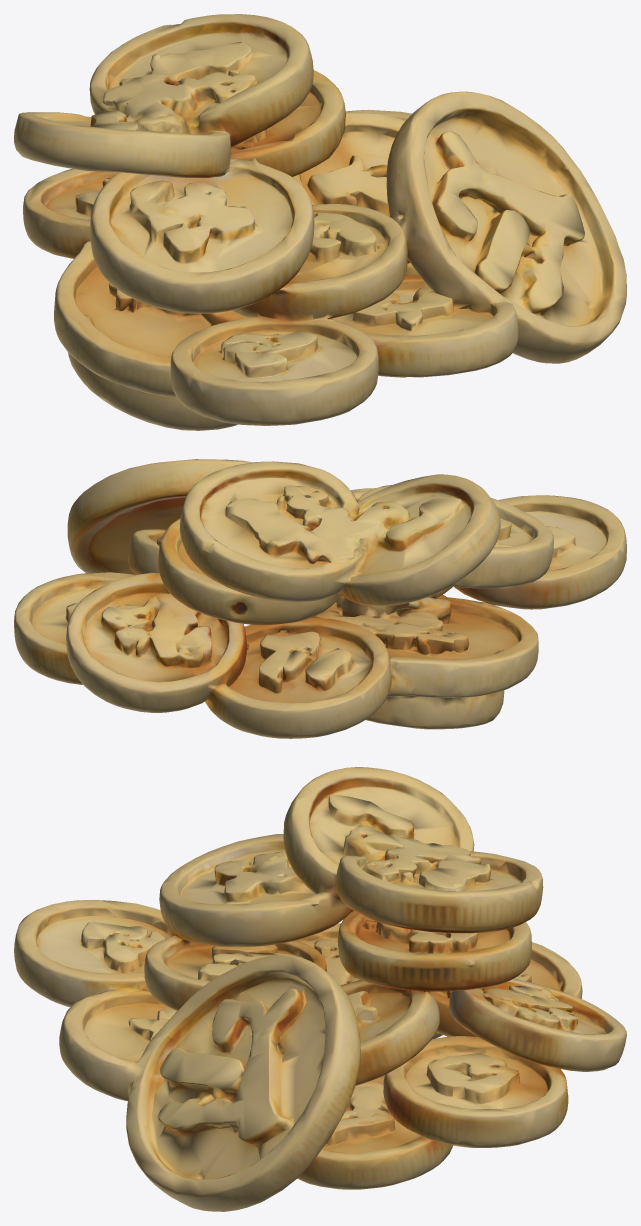
File: prop-coin-pile.glb
The picture shows the model from 3 angles, top to bottom: view 1: azimuth 30°, elevation 25°; view 2: azimuth 150°, elevation 25°; view 3: azimuth 270°, elevation 25°; orthographic projection. The views are drawn at different scales.
Visible parts, largest first — view 1: tripo_node_39419553-7584-4f32-bab2-c5bf6f872e3b; view 2: tripo_node_39419553-7584-4f32-bab2-c5bf6f872e3b; view 3: tripo_node_39419553-7584-4f32-bab2-c5bf6f872e3b.
Part boxes in pixels (x1,y1,x2,y2): tripo_node_39419553-7584-4f32-bab2-c5bf6f872e3b: (14, 14, 626, 430); tripo_node_39419553-7584-4f32-bab2-c5bf6f872e3b: (14, 459, 626, 738); tripo_node_39419553-7584-4f32-bab2-c5bf6f872e3b: (14, 767, 626, 1211).
Bounding box in the file's own units: 0.5758 × 0.3 × 0.6374.
Materials: 1 (1 with a texture image).
